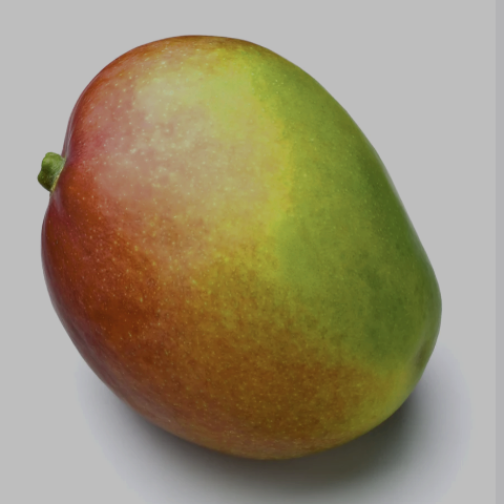mango: (2, 2, 478, 479)
